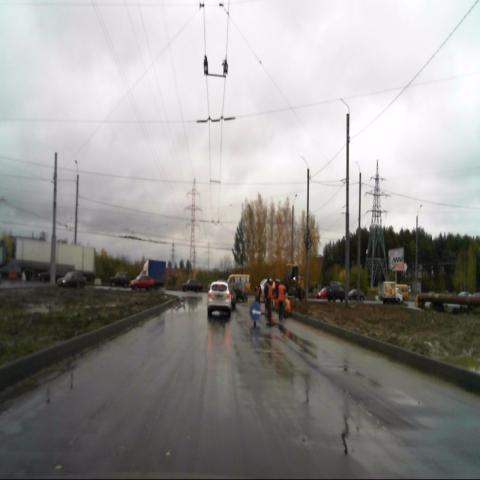4_1_2_2: (249, 301, 261, 321)
